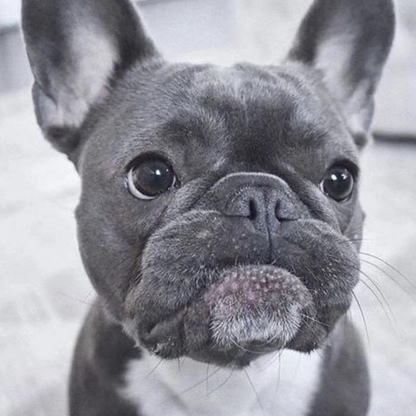bulldog: (28, 11, 397, 372)
